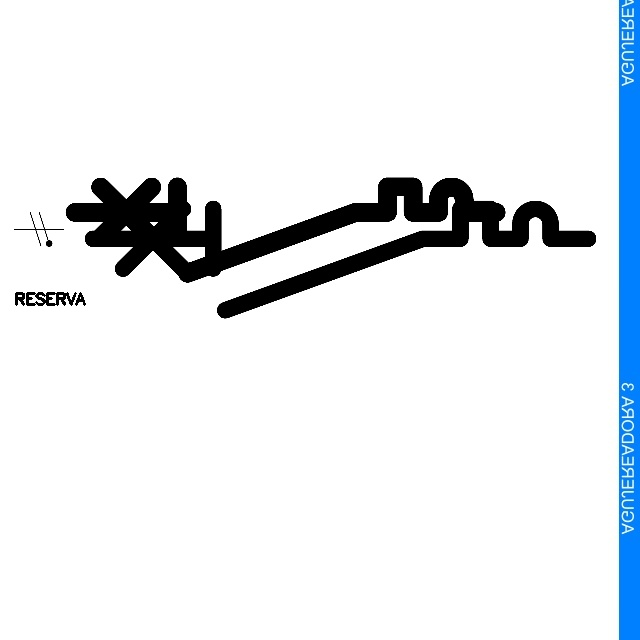interruptor_termomagnetico: (80, 196, 601, 323), (64, 176, 507, 284)
